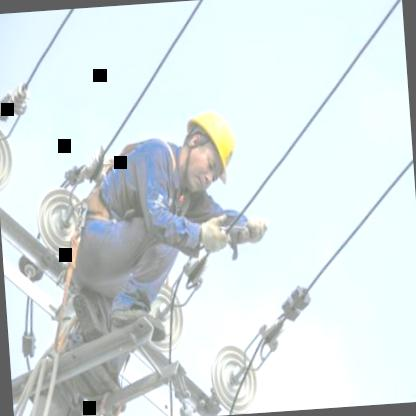helmet: (172, 102, 240, 194)
